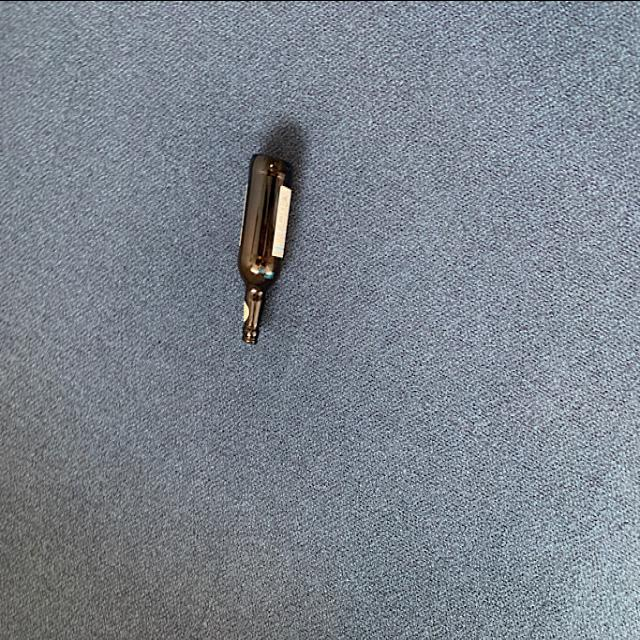litter: (227, 146, 304, 344)
